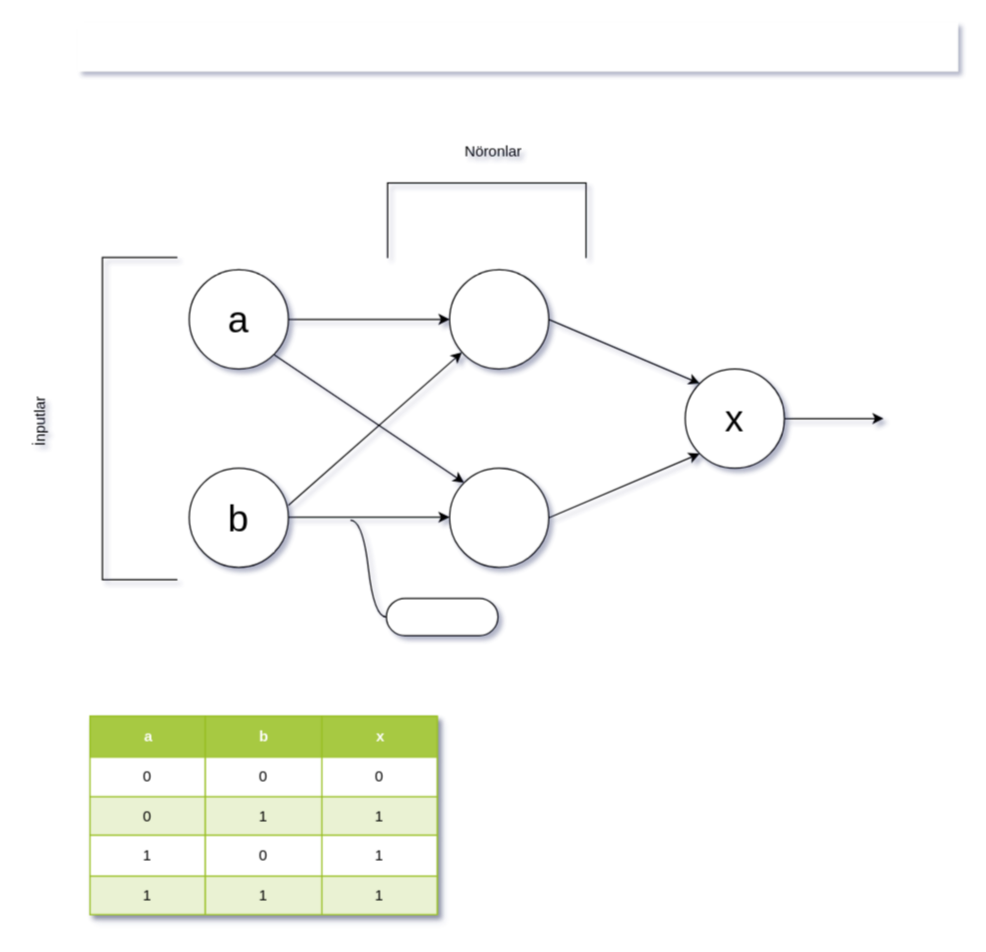
This 986x952 diagram has some shape labels left out. Here are the shapes that lost their labels. From the top down, the centre of each, then its label:
pixel 517 46: Implementation of Perceptron Algorithm for XOR Logic Gate
pixel 441 616: Ağırlıklar
